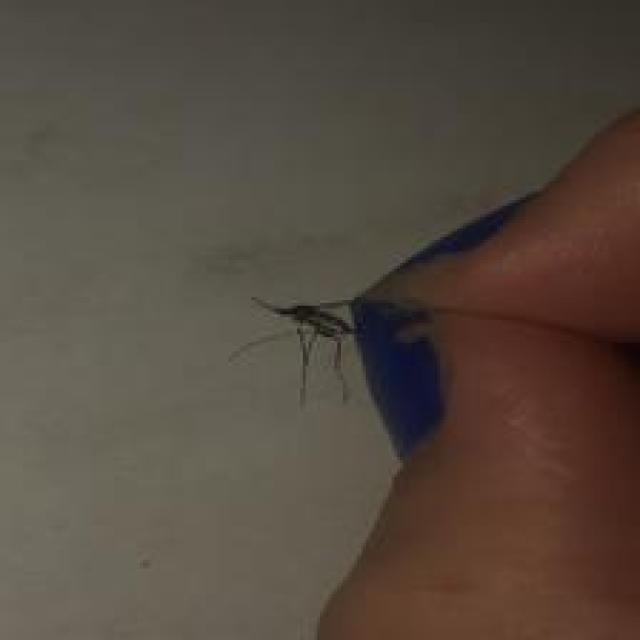Aedes albopictus: (227, 187, 544, 464)
